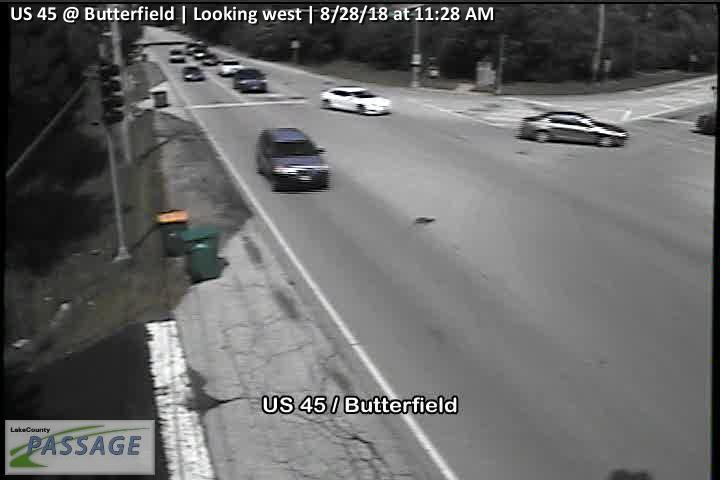SUV: (256, 128, 330, 192), (232, 67, 268, 93), (217, 57, 244, 76)
Sedan: (520, 109, 627, 148), (319, 84, 392, 115), (182, 65, 204, 81), (167, 47, 184, 63)
